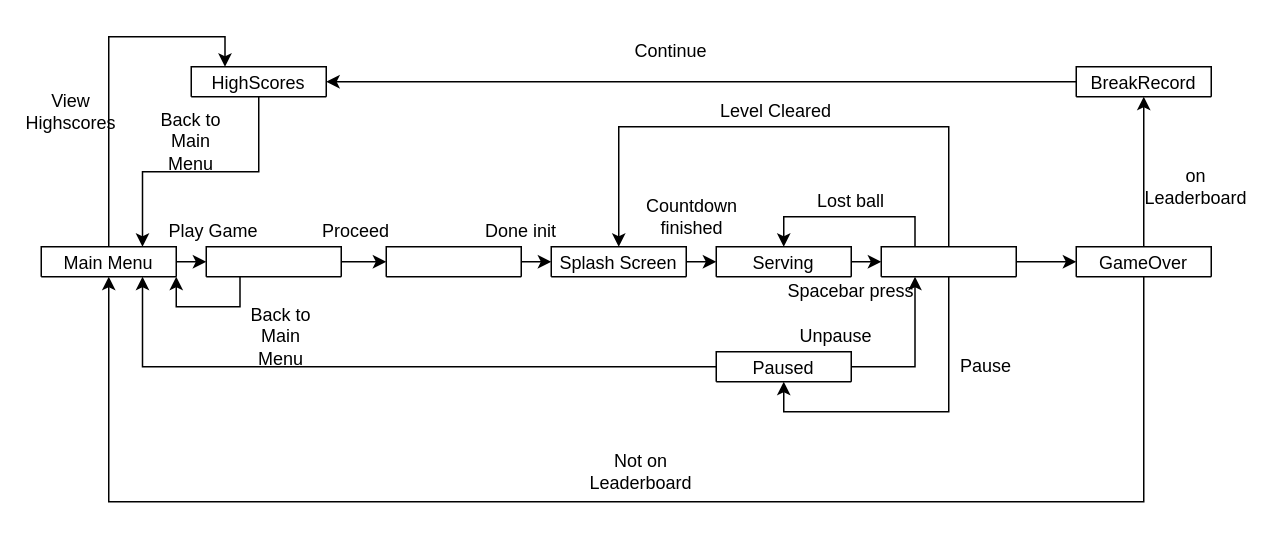
This 1272x540 diagram has some shape labels left out. Here are the shapes that lost their labels. From the top down, the centre of each, then its label:
At [273,261]: "Setup".
At [453,261]: "Initialization".
At [948,261]: "Playing".
